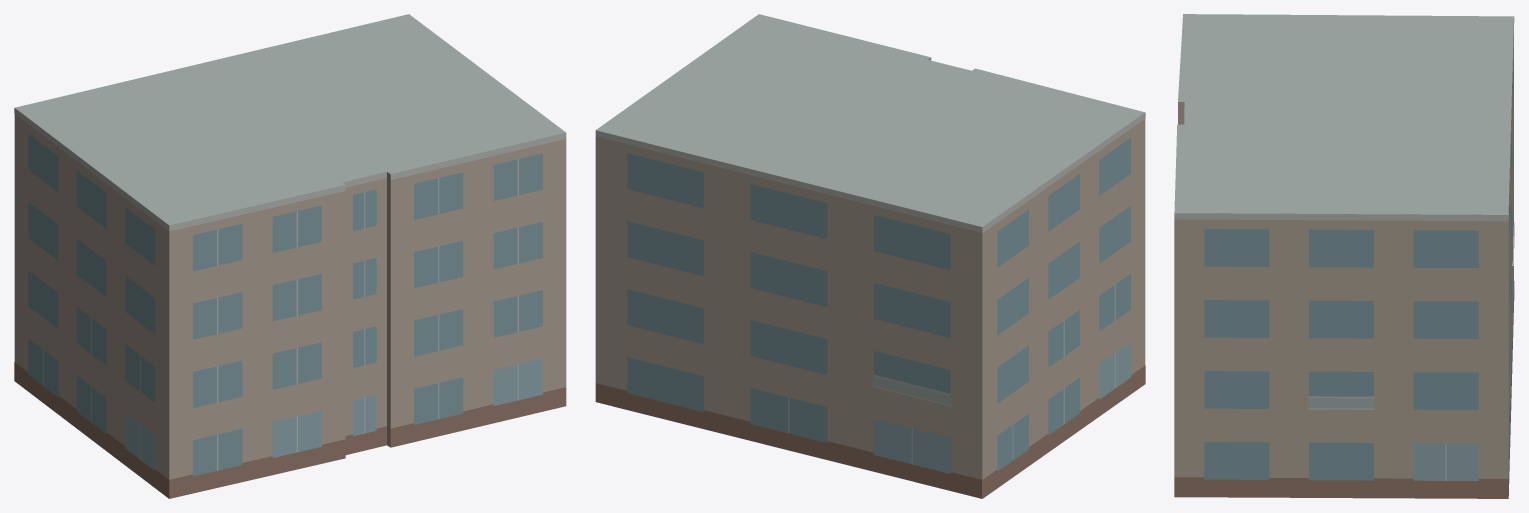
The model's file is survey-upis-32813393.glb.
3 renders of one model, left to right at view 1: azimuth 30°, elevation 25°; view 2: azimuth 150°, elevation 25°; view 3: azimuth 270°, elevation 25°, orthographic. The views are drawn at different scales.
Visible parts, largest first — view 1: survey-upis-32813393.tmp; view 2: survey-upis-32813393.tmp; view 3: survey-upis-32813393.tmp.
Boxes of the visible parts, x1,y1,x2,y2 form: survey-upis-32813393.tmp: (14, 14, 566, 498); survey-upis-32813393.tmp: (595, 14, 1145, 498); survey-upis-32813393.tmp: (1174, 14, 1514, 498).
Bounding box in the file's own units: 16.61 × 10.94 × 11.89.
